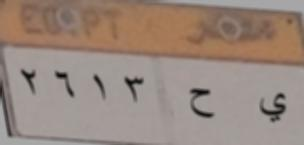1: (88, 64, 112, 108)
2: (16, 64, 41, 97)
3: (122, 71, 149, 105)
6: (50, 68, 78, 102)
7aa: (188, 83, 216, 123)
yaa: (253, 87, 290, 127)
